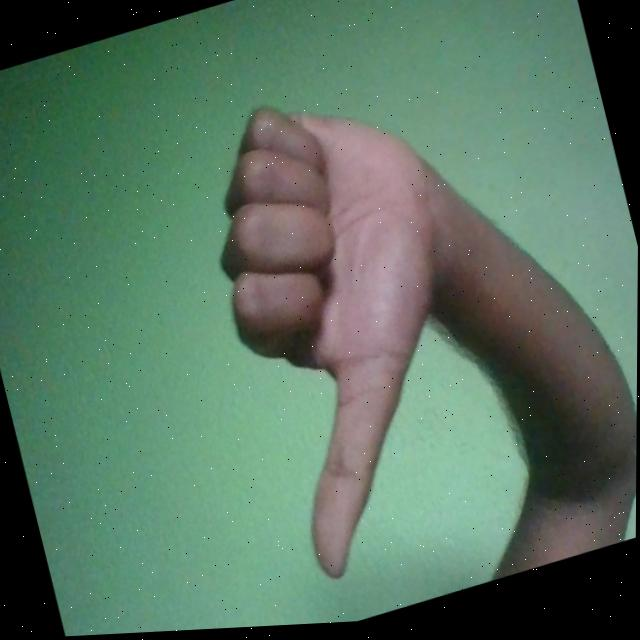Dislike: (185, 66, 518, 597)
